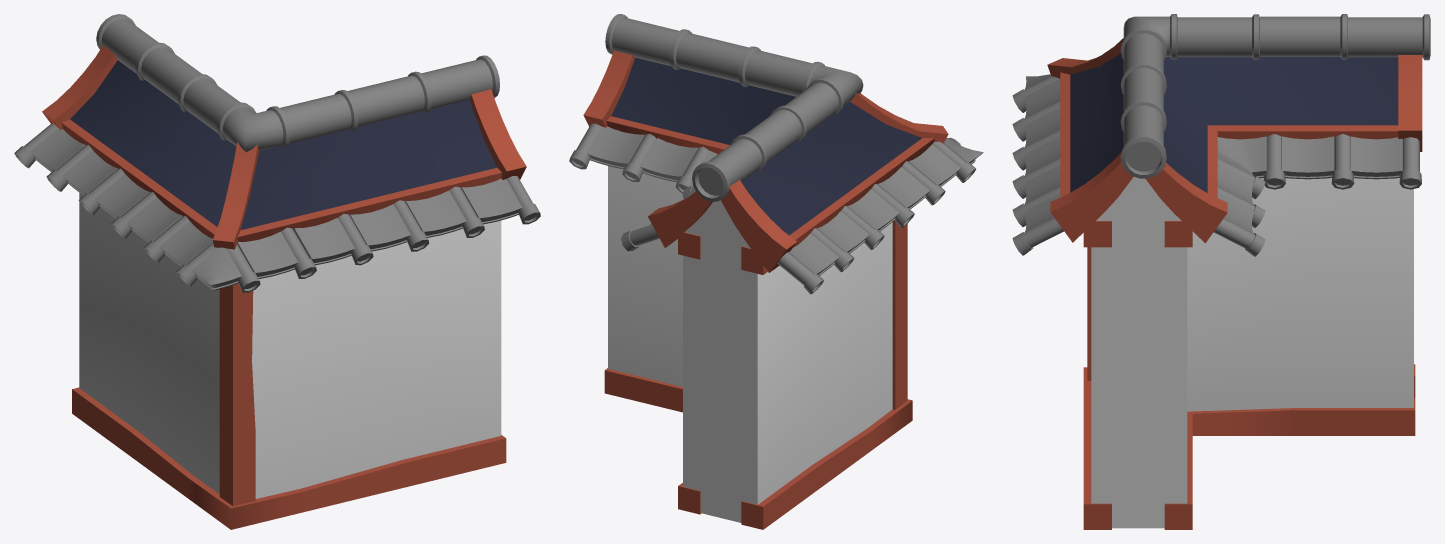
The model's file is SM_wall_modular_corner.fbx.
The picture shows the model from 3 angles, left to right: view 1: azimuth 30°, elevation 25°; view 2: azimuth 150°, elevation 25°; view 3: azimuth 270°, elevation 25°; orthographic projection. The views are drawn at different scales.
Parts seen in each view (by area): view 1: Object32476; view 2: Object32476; view 3: Object32476.
Boxes of the visible parts, left/top/right/bottom form: Object32476: left=14, top=14, right=540, bottom=529; Object32476: left=569, top=14, right=983, bottom=529; Object32476: left=1012, top=14, right=1430, bottom=529.
Bounding box in the file's own units: 120 × 127 × 120.
